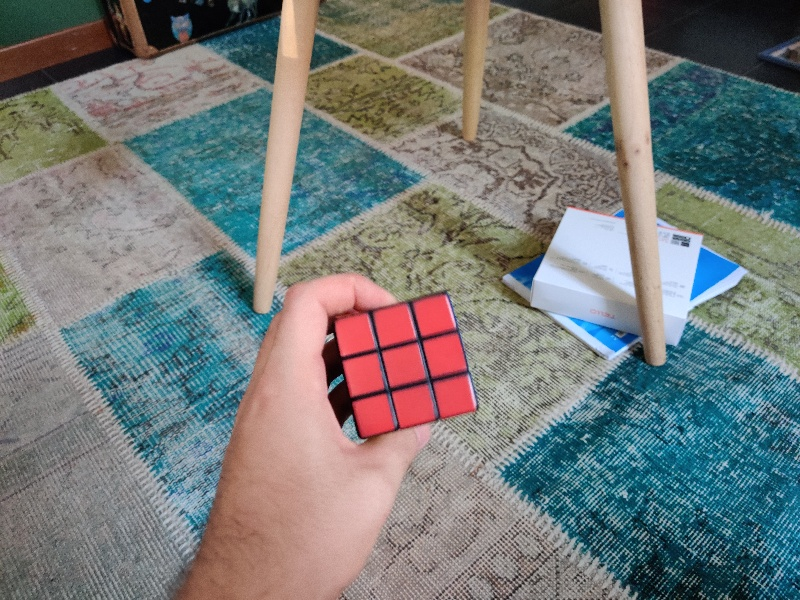rubik: (332, 292, 479, 438)
